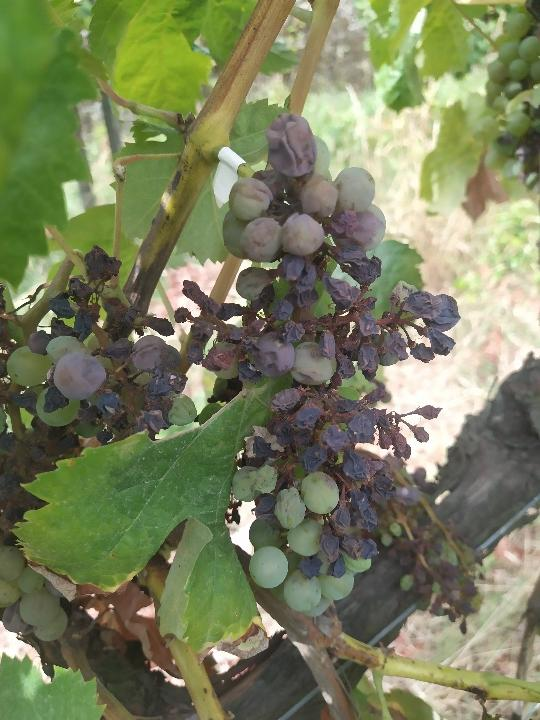grape: (218, 105, 463, 623), (3, 244, 190, 641)
